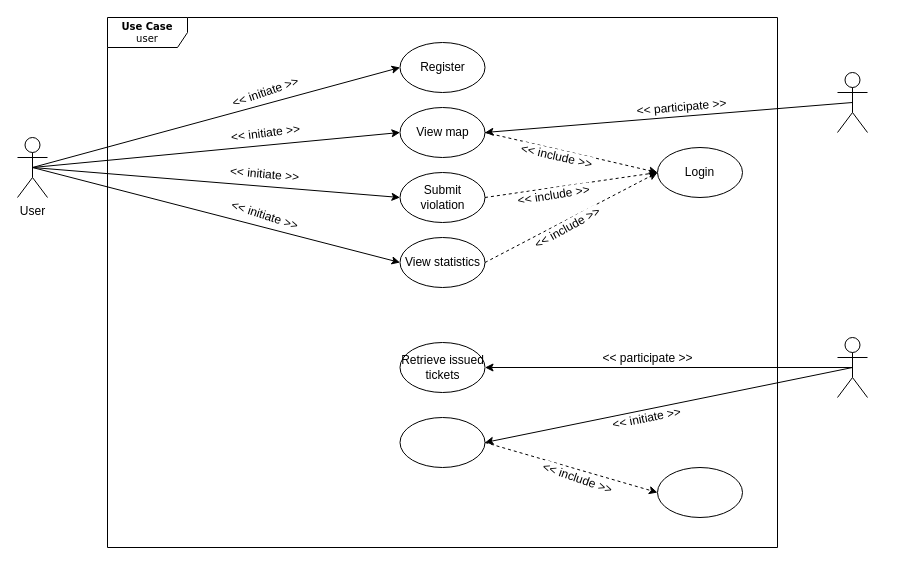
Image size: 902x565. Some labels were removed from this diagram. Here are the shapes that lost their labels. From the top down, the centre of each, then its label:
At pixel 852 102: "GIS Service".
At pixel 852 367: "Municipality".
At pixel 442 442: "Retrieve data".
At pixel 699 492: "Authentication".
